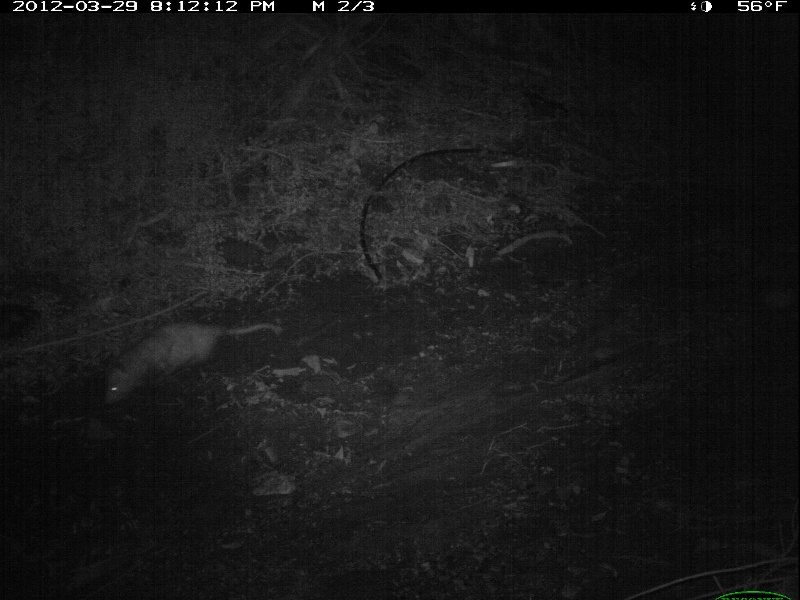opossum: (100, 311, 284, 406)
